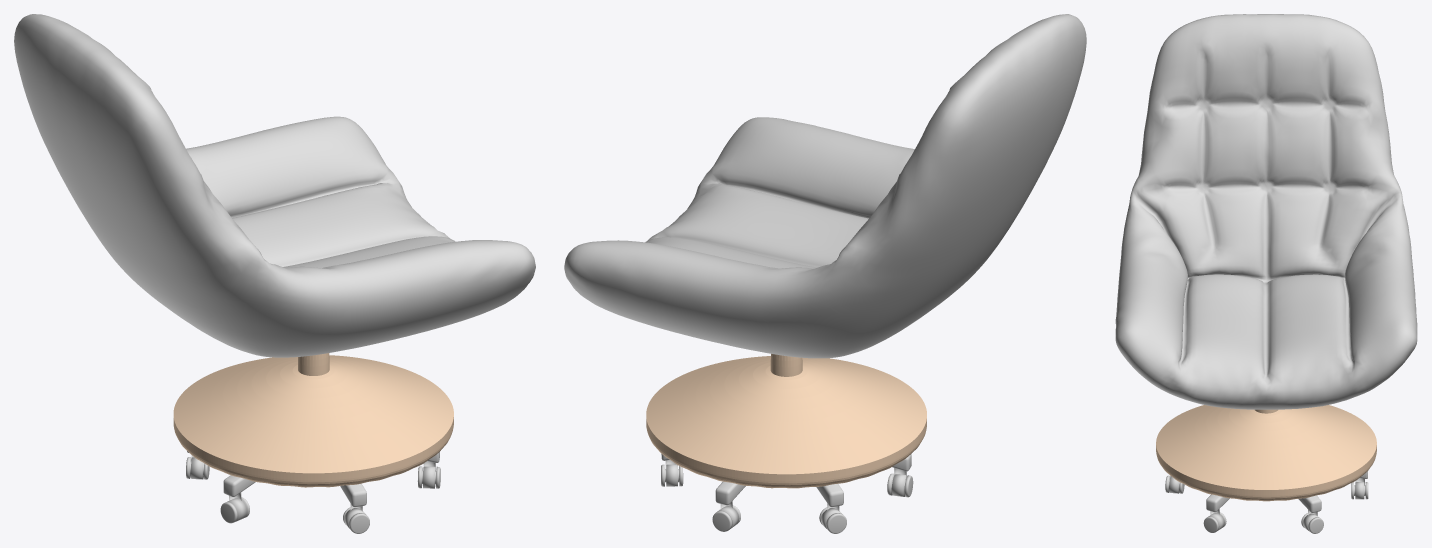
Rendered from Chair_Blender_ITP.glb.
3 views of the same model, side by side, from view 1: azimuth 30°, elevation 25°; view 2: azimuth 150°, elevation 25°; view 3: azimuth 270°, elevation 25° (orthographic). The views are drawn at different scales.
Visible parts, largest first — view 1: chair_body, pedestal_chair_stand, rotating_chair_stand; view 2: chair_body, pedestal_chair_stand, rotating_chair_stand; view 3: chair_body, pedestal_chair_stand, rotating_chair_stand.
Part boxes in pixels (left/top/right/bottom): chair_body: left=14, top=14, right=535, bottom=357; pedestal_chair_stand: left=173, top=353, right=453, bottom=487; rotating_chair_stand: left=186, top=451, right=440, bottom=533; chair_body: left=564, top=14, right=1086, bottom=358; pedestal_chair_stand: left=646, top=354, right=926, bottom=488; rotating_chair_stand: left=661, top=454, right=913, bottom=533; chair_body: left=1115, top=14, right=1417, bottom=409; pedestal_chair_stand: left=1156, top=405, right=1376, bottom=501; rotating_chair_stand: left=1165, top=471, right=1368, bottom=533.
Size of the model in its own units: 2.62 by 3.18 by 2.21.
